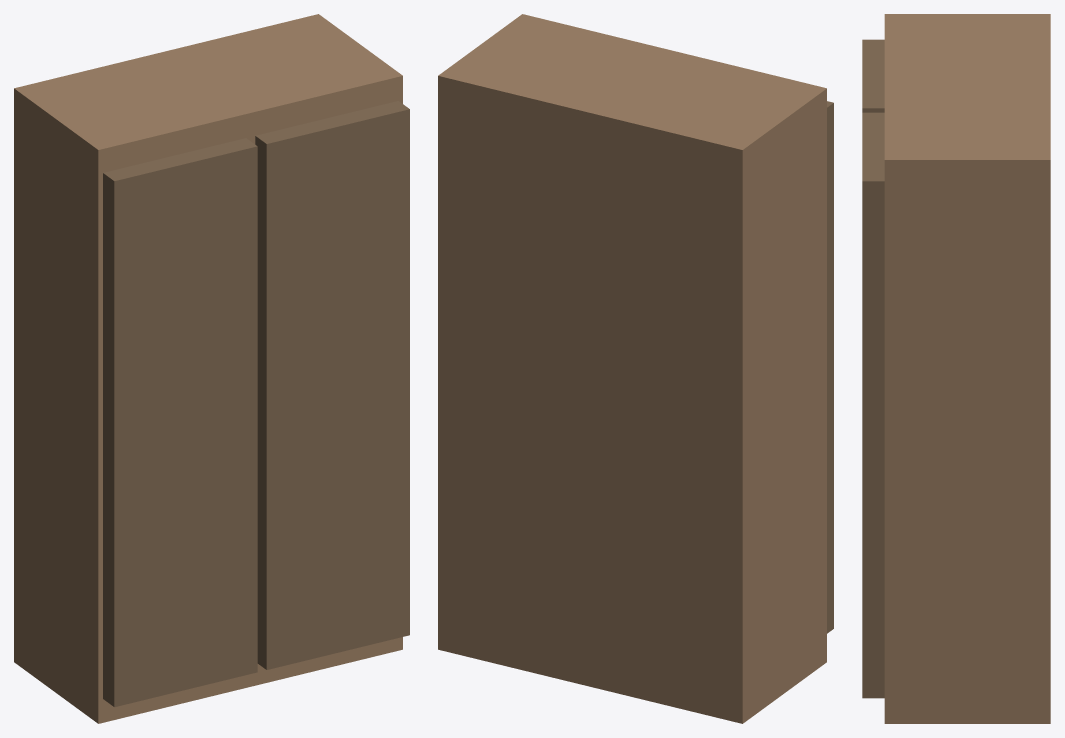
The model's file is cabinet.glb.
The picture shows the model from 3 angles, left to right: view 1: azimuth 30°, elevation 25°; view 2: azimuth 150°, elevation 25°; view 3: azimuth 270°, elevation 25°; orthographic projection.
Parts seen in each view (by area): view 1: part_0, part_1, part_2; view 2: part_0, part_1; view 3: part_0, part_2, part_1.
Boxes of the visible parts, box(x1,y1,x2,y2) form: part_0: box(14, 14, 402, 723); part_1: box(103, 138, 257, 707); part_2: box(255, 101, 409, 669); part_0: box(438, 14, 826, 723); part_1: box(827, 101, 833, 633); part_0: box(884, 14, 1050, 723); part_2: box(862, 112, 884, 698); part_1: box(862, 39, 884, 112).
Size of the model in its own units: 1 by 1.8 by 0.545.
